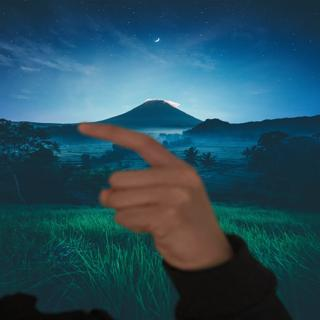WHY: (67, 116, 227, 267)
